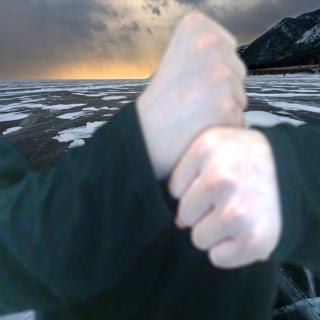CAREFUL: (133, 7, 285, 281)
